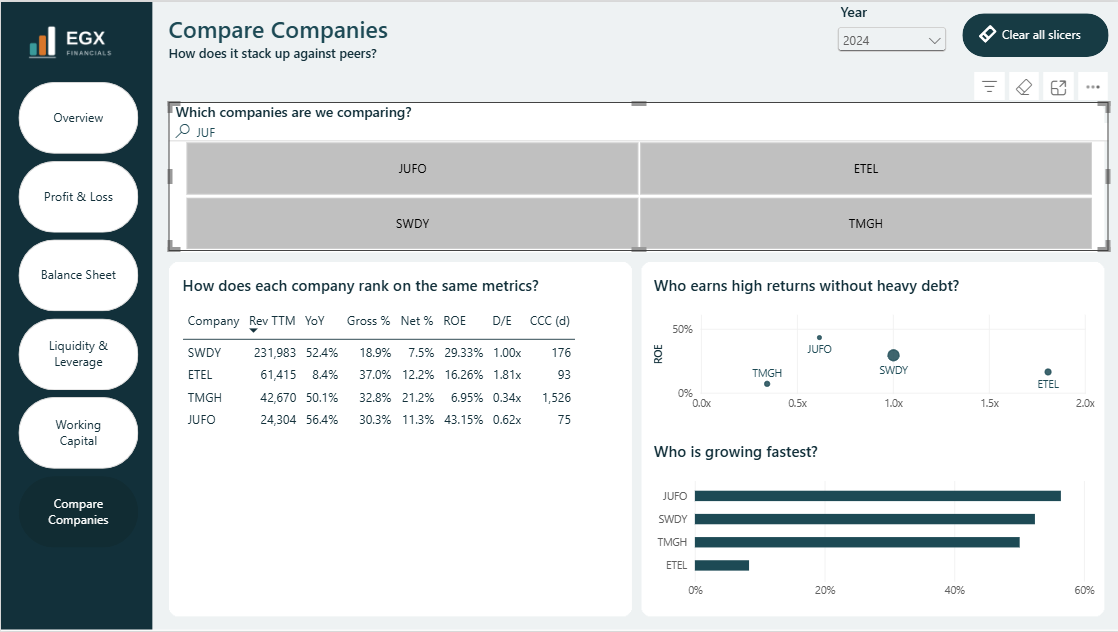

The dashboard page shown, as its layout file describes it:
{"tool":"powerbi","page":{"name":"Compare Companies","canvas":[1280,720],"ordinal":5},"visuals":[{"type":"slicer","fields":{"Values":["DimCalendar.Year"]},"box":[765,0,133.8,75],"z":0},{"type":"slicer","fields":{"Values":["DimCompany.Company"]},"box":[922.5,0,152.5,75],"z":1000},{"type":"actionButton","box":[1098.8,12.5,167.5,50],"z":2000},{"type":"pageNavigator","box":[20,91.2,137.5,537.5],"z":3000},{"type":"image","box":[24,14,125,60],"z":4000},{"type":"textbox","box":[192,12.5,560,56],"z":5000}]}

Visuals, with their boxes on the page's 1280x720 design canvas (x1, y1, x2, y2). These are canvas units, not pixel positions in the 1118x632 screenshot, which may show the page scaled, cropped or inside an application window:
slicer - DimCalendar.Year: box(765, 0, 899, 75)
slicer - DimCompany.Company: box(922, 0, 1075, 75)
actionButton: box(1099, 12, 1266, 62)
pageNavigator: box(20, 91, 158, 629)
image: box(24, 14, 149, 74)
textbox: box(192, 12, 752, 68)
